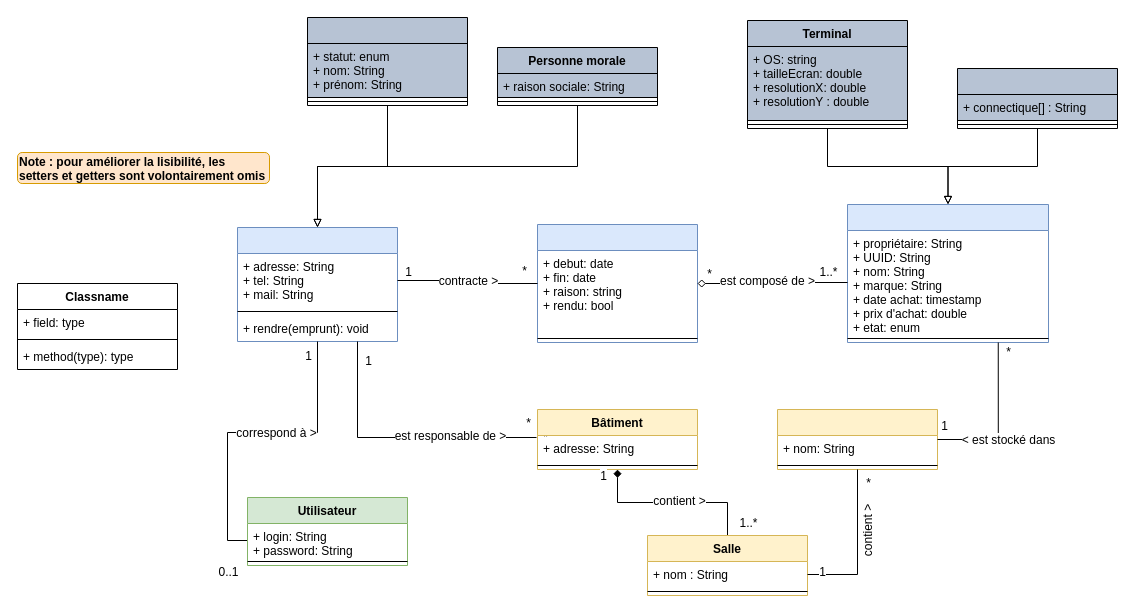
Some shapes in this 1135 by 613 pixel diagram are drawn without their labels. Each missing label, with the box of its shape:
Armoire: (776, 408, 938, 470)
Emprunt: (536, 224, 698, 342)
Matériel: (846, 204, 1048, 342)
Personne: (236, 226, 398, 342)
Personne physique: (306, 16, 468, 106)
Périphérique: (956, 68, 1118, 128)
